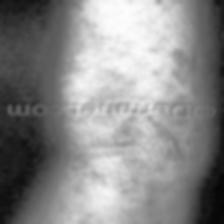Toxin: (169, 50, 206, 98)
